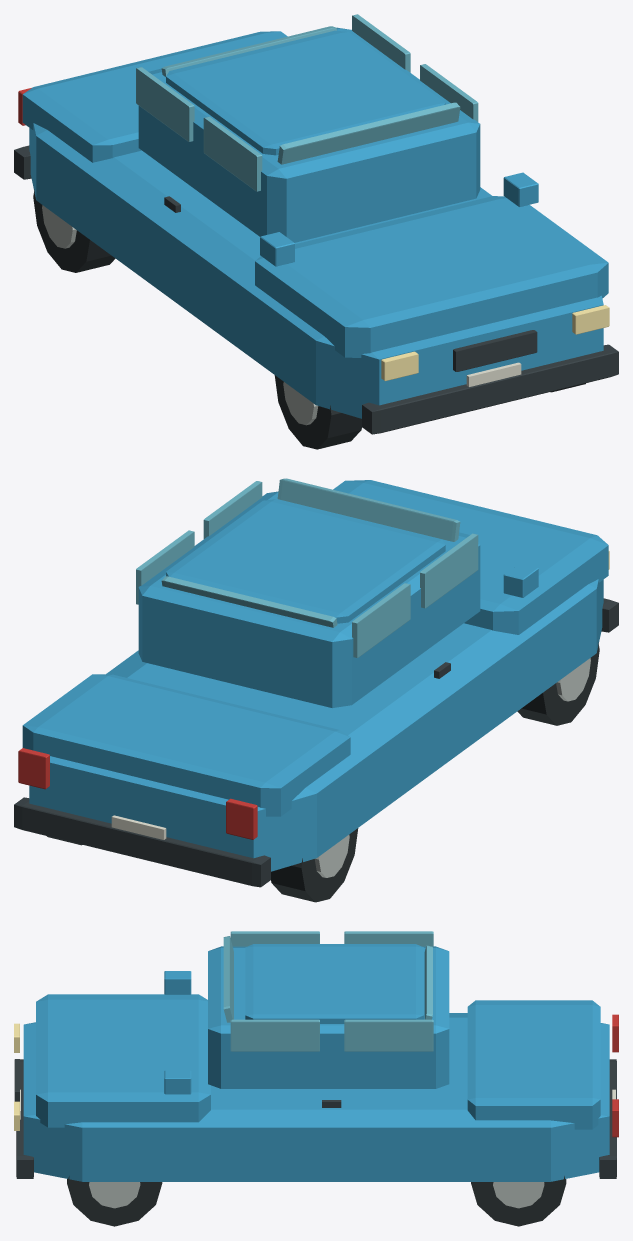
File: family_sedan.glb
The picture shows the model from 3 angles, top to bottom: view 1: azimuth 30°, elevation 25°; view 2: azimuth 150°, elevation 25°; view 3: azimuth 270°, elevation 25°; orthographic projection. The views are drawn at different scales.
Visible parts, largest first — view 1: FamilySedan body shell, FamilySedan hood, FamilySedan cabin, FamilySedan roof, FamilySedan rear deck, FamilySedan front bumper, FamilySedan front windshield, FamilySedan front side window, FamilySedan front tire -1, FamilySedan rear side window, FamilySedan grille, FamilySedan rear tire -1 (+10 smaller); view 2: FamilySedan body shell, FamilySedan rear deck, FamilySedan cabin, FamilySedan roof, FamilySedan hood, FamilySedan rear bumper, FamilySedan front windshield, FamilySedan rear tire -1, FamilySedan rear side window, FamilySedan front side window, FamilySedan rear windshield, FamilySedan front tire -1 (+8 smaller); view 3: FamilySedan body shell, FamilySedan hood, FamilySedan rear deck, FamilySedan cabin, FamilySedan roof, FamilySedan rear side window.001, FamilySedan front side window.001, FamilySedan rear tire 1, FamilySedan front tire 1, FamilySedan front side window, FamilySedan rear side window, FamilySedan rear hub 1 (+7 smaller).
Boxes of the visible parts, left/top/right/bottom form: FamilySedan body shell: left=29, top=123, right=603, bottom=418; FamilySedan hood: left=255, top=196, right=608, bottom=357; FamilySedan cabin: left=138, top=27, right=480, bottom=242; FamilySedan roof: left=166, top=30, right=445, bottom=155; FamilySedan rear deck: left=22, top=31, right=287, bottom=162; FamilySedan front bumper: left=362, top=344, right=618, bottom=434; FamilySedan front windshield: left=277, top=102, right=460, bottom=164; FamilySedan front side window: left=203, top=116, right=262, bottom=191; FamilySedan front tire -1: left=274, top=375, right=361, bottom=449; FamilySedan rear side window: left=136, top=67, right=194, bottom=141; FamilySedan grille: left=453, top=330, right=537, bottom=371; FamilySedan rear tire -1: left=33, top=189, right=115, bottom=272; FamilySedan body shell: left=29, top=579, right=603, bottom=871; FamilySedan rear deck: left=22, top=674, right=350, bottom=816; FamilySedan cabin: left=138, top=491, right=480, bottom=707; FamilySedan roof: left=166, top=499, right=445, bottom=623; FamilySedan hood: left=333, top=480, right=608, bottom=634; FamilySedan rear bumper: left=14, top=797, right=270, bottom=887; FamilySedan front windshield: left=277, top=478, right=460, bottom=541; FamilySedan rear tire -1: left=271, top=828, right=358, bottom=902; FamilySedan rear side window: left=352, top=583, right=410, bottom=657; FamilySedan front side window: left=420, top=533, right=478, bottom=608; FamilySedan rear windshield: left=161, top=576, right=337, bottom=627; FamilySedan front tire -1: left=517, top=642, right=599, bottom=725; FamilySedan body shell: left=23, top=1013, right=609, bottom=1181; FamilySedan hood: left=36, top=994, right=210, bottom=1127; FamilySedan rear deck: left=467, top=1000, right=600, bottom=1129; FamilySedan cabin: left=208, top=946, right=449, bottom=1088; FamilySedan roof: left=245, top=944, right=423, bottom=1023; FamilySedan rear side window.001: left=344, top=1019, right=433, bottom=1051; FamilySedan front side window.001: left=230, top=1019, right=319, bottom=1051; FamilySedan rear tire 1: left=471, top=1176, right=566, bottom=1226; FamilySedan front tire 1: left=67, top=1176, right=162, bottom=1226; FamilySedan front side window: left=230, top=931, right=319, bottom=946; FamilySedan rear side window: left=344, top=931, right=433, bottom=946; FamilySedan rear hub 1: left=493, top=1182, right=544, bottom=1208.
Bounding box in the file's own units: 1.82 × 1.48 × 4.06.
